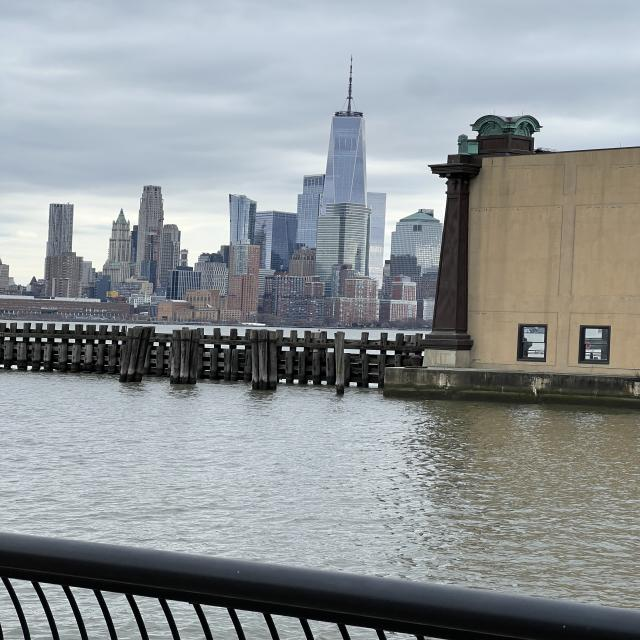WTC: (326, 54, 369, 207)
